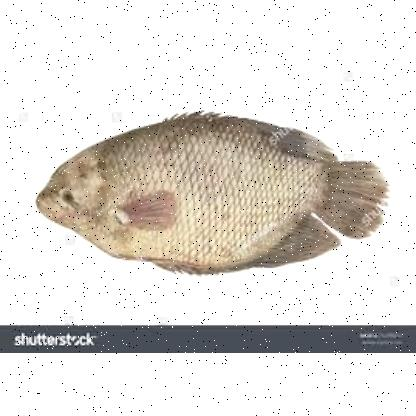gurame: (38, 112, 374, 280)
